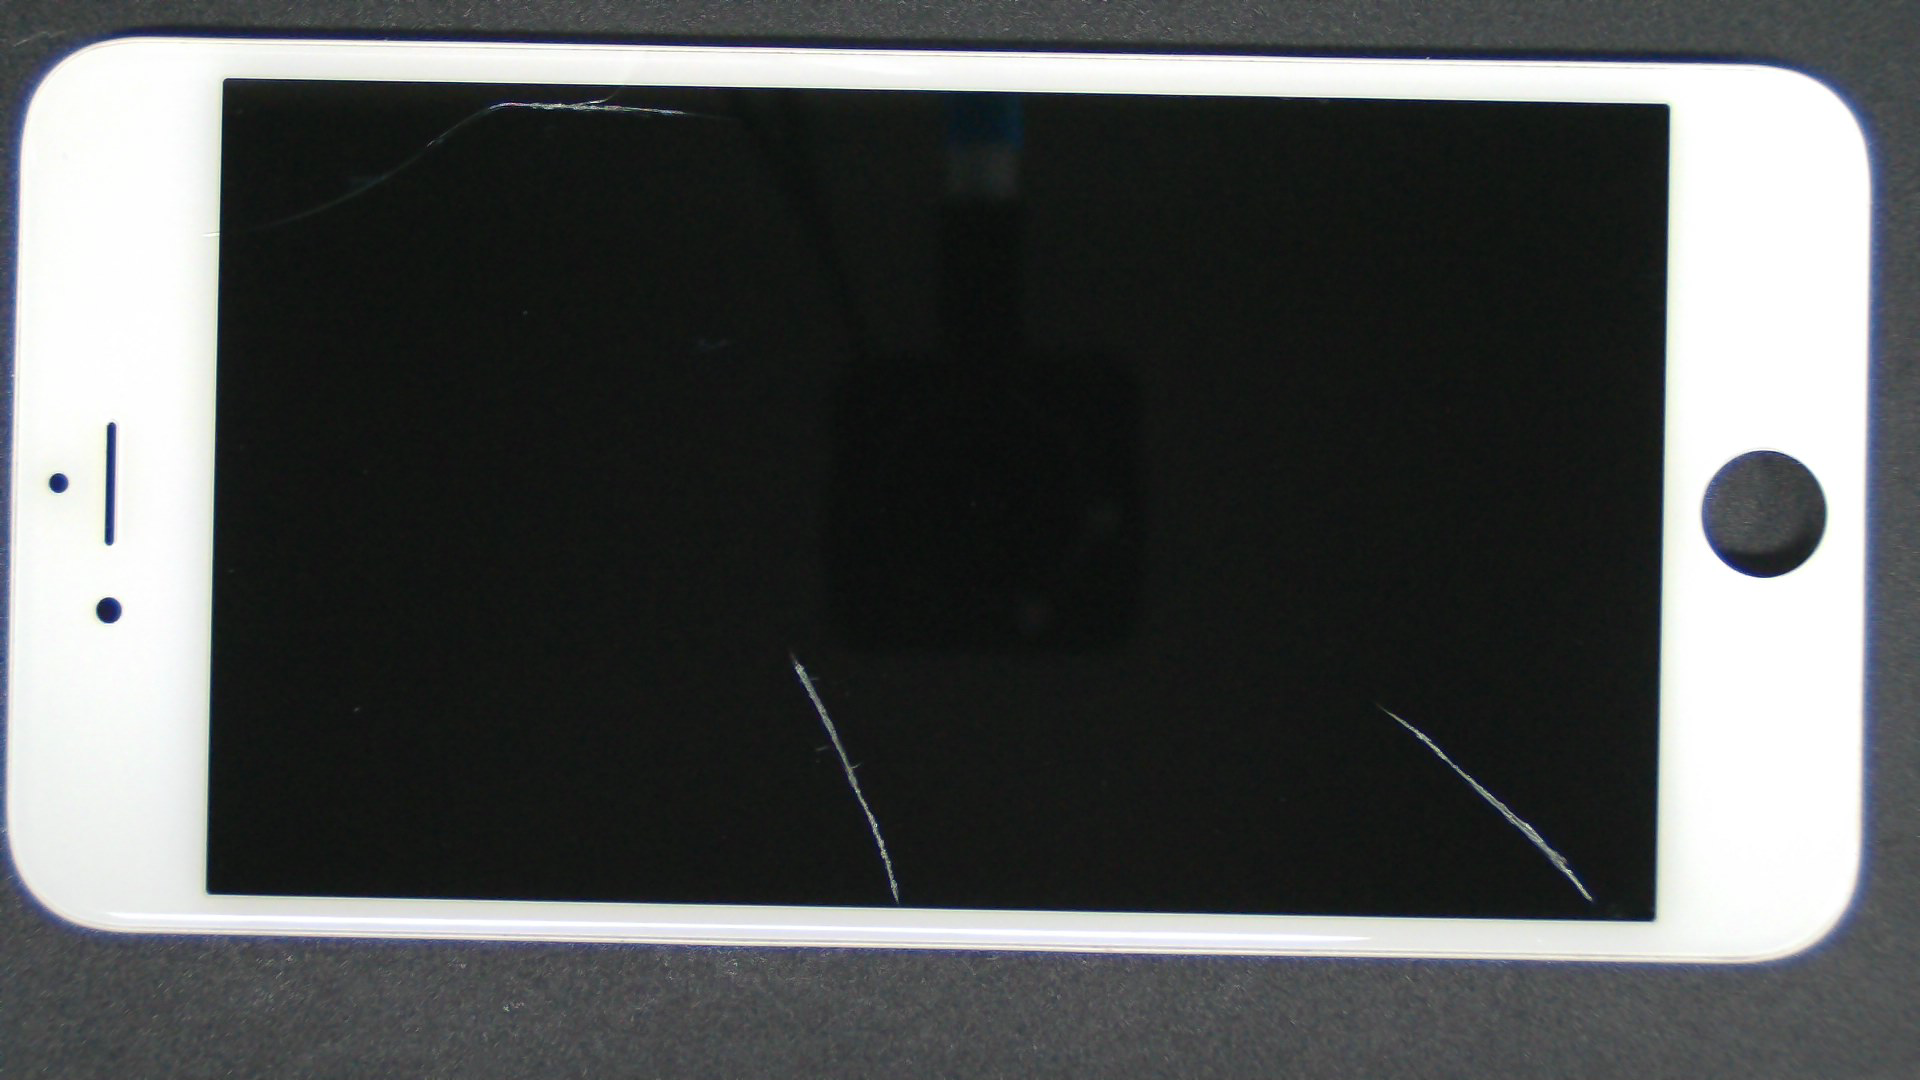defect: (1375, 703, 1593, 902), (790, 653, 899, 905), (485, 95, 687, 115)
